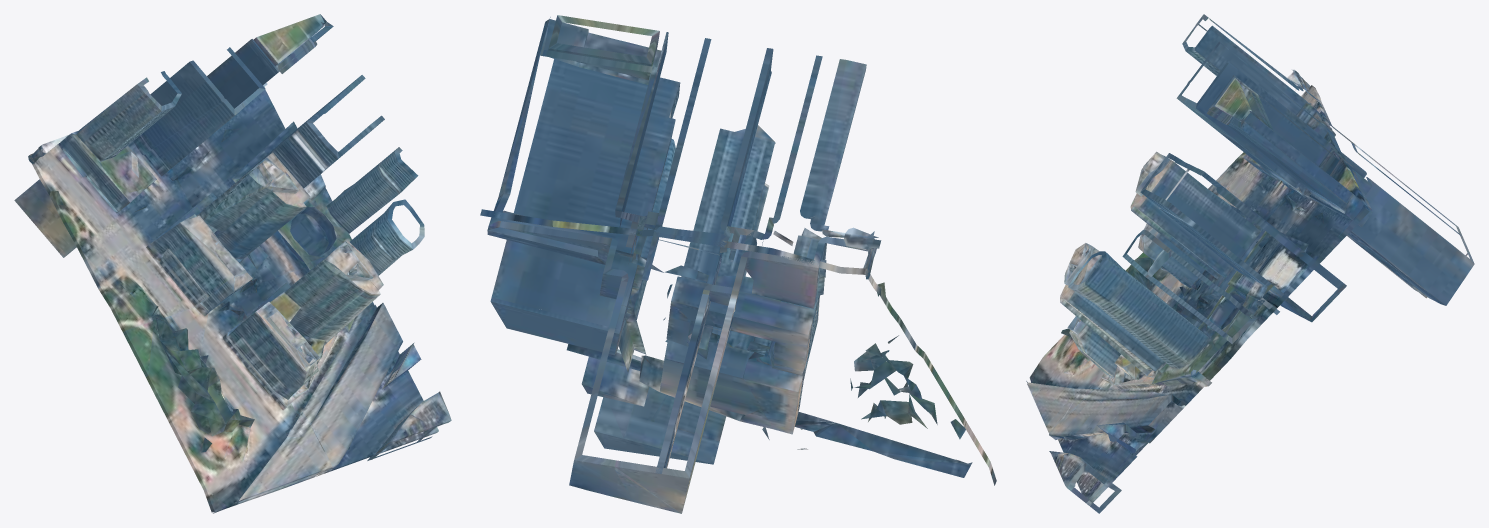
The model's file is AJVsH2z7nYSd1vIwQlCcVRmXJ9ufEQoiVLgm0DSN6GcC6HToEcBZ4N74vhCzZILbkxt13G6gCW6DC9HUXPu7F_KQDYmSHT-9hL6Wu1cHIJ17v8LzyXLUxAznGxAv96zA6GEWMulyivZixZZG7gE1scluaaFloOvMOg.glb.
3 renders of one model, left to right at view 1: azimuth 30°, elevation 25°; view 2: azimuth 150°, elevation 25°; view 3: azimuth 270°, elevation 25°, orthographic. The views are drawn at different scales.
Size of the model in its own units: 261 by 313 by 331.
Materials: 2 (2 with a texture image).
